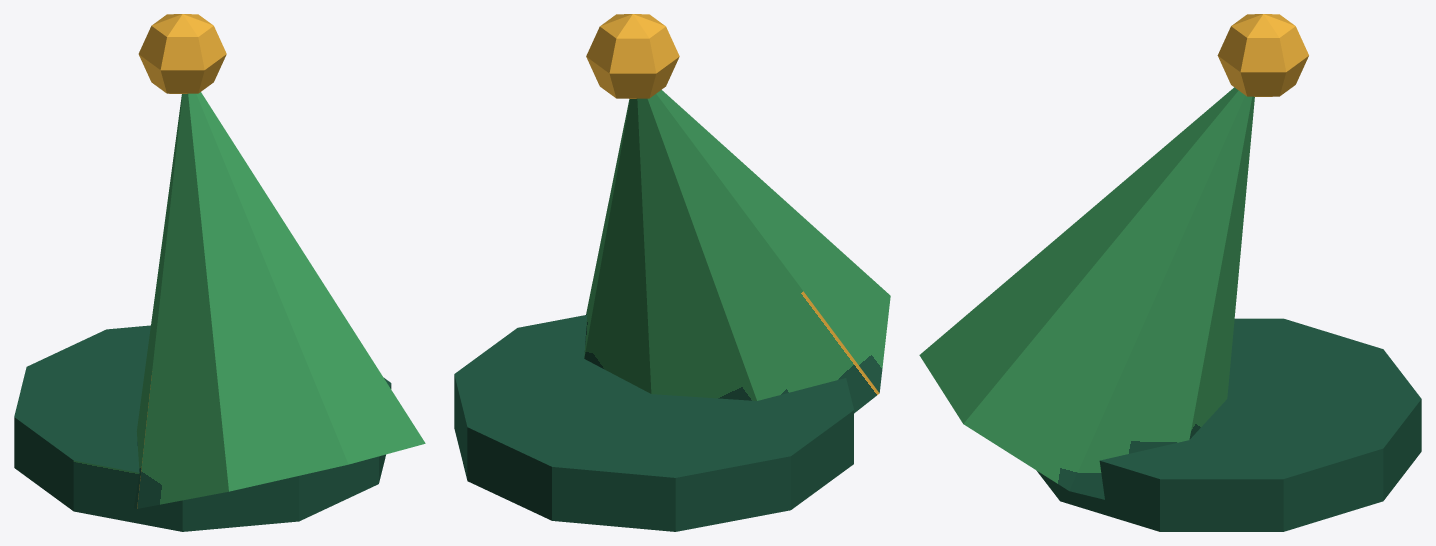
The model's file is hat_elf.glb.
3 renders of one model, left to right at view 1: azimuth 30°, elevation 25°; view 2: azimuth 150°, elevation 25°; view 3: azimuth 270°, elevation 25°, orthographic. The views are drawn at different scales.
Parts seen in each view (by area): view 1: hat_elf; view 2: hat_elf; view 3: hat_elf.
Part boxes in pixels (x1,y1,x2,y2): hat_elf: (14, 14, 425, 531); hat_elf: (454, 14, 890, 531); hat_elf: (919, 14, 1421, 531).
Size of the model in its own units: 0.4565 by 0.6261 by 0.6032.
Materials: 1 (1 with a texture image).
